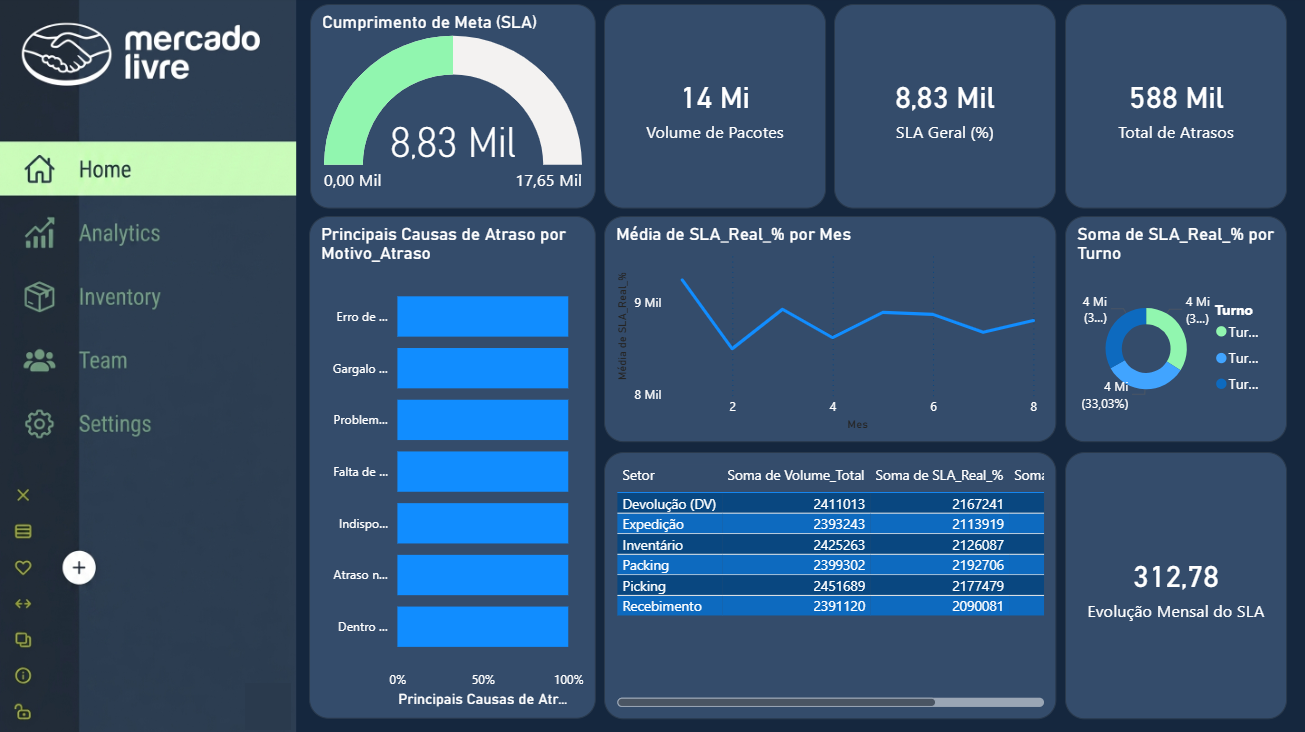

The page's visual inventory and layout, read from the dashboard file:
{"tool":"powerbi","page":{"name":"Página 1","canvas":[1280,720],"ordinal":0},"visuals":[{"type":"card","fields":{"Values":["Avg(Base_SLA_Logistica_Meli_Cajamar.Tempo_Medio_Seg)"]},"box":[1038.8,442.6,215.9,259.7],"z":0},{"type":"card","fields":{"Values":["Sum(Base_SLA_Logistica_Meli_Cajamar.Volume_Total)"]},"box":[590.4,6.8,215.9,199.4],"z":1},{"type":"card","fields":{"Values":["Avg(Base_SLA_Logistica_Meli_Cajamar.SLA_Real_%)"]},"box":[814.1,6.8,215.9,199.4],"z":2},{"type":"card","fields":{"Values":["Sum(Base_SLA_Logistica_Meli_Cajamar.Pacotes_Atrasados)"]},"box":[1038.8,6.8,215.9,199.4],"z":3},{"type":"gauge","fields":{"Y":["Avg(Base_SLA_Logistica_Meli_Cajamar.SLA_Real_%)"]},"box":[304.4,6.8,278.2,199.4],"z":4},{"type":"hundredPercentStackedBarChart","fields":{"Category":["Base_SLA_Logistica_Meli_Cajamar.Motivo_Atraso"],"Y":["Sum(Base_SLA_Logistica_Meli_Cajamar.Pacotes_Atrasados)"]},"box":[303.5,213,279.1,489.2],"z":5},{"type":"lineChart","fields":{"Category":["Base_SLA_Logistica_Meli_Cajamar.Mes"],"Y":["Avg(Base_SLA_Logistica_Meli_Cajamar.SLA_Real_%)"]},"box":[590.4,213,439.6,219.8],"z":6},{"type":"tableEx","fields":{"Values":["Base_SLA_Logistica_Meli_Cajamar.Setor","Sum(Base_SLA_Logistica_Meli_Cajamar.Volume_Total)","Sum(Base_SLA_Logistica_Meli_Cajamar.SLA_Real_%)","Sum(Base_SLA_Logistica_Meli_Cajamar.Pacotes_Atrasados)"]},"box":[590.4,442.6,439.6,259.7],"z":7},{"type":"donutChart","fields":{"Y":["Sum(Base_SLA_Logistica_Meli_Cajamar.SLA_Real_%)"],"Category":["Base_SLA_Logistica_Meli_Cajamar.Turno"]},"box":[1038.8,213,215.9,219.8],"z":8},{"type":"image","box":[0,0,292.8,719.8],"z":9},{"type":"shape","box":[241.2,667.2,44.7,45.7],"z":10}]}

Visuals, with their boxes on the page's 1280x720 design canvas (x1, y1, x2, y2). These are canvas units, not pixel positions in the 1305x732 screenshot, which may show the page scaled, cropped or inside an application window:
card - Avg(Base_SLA_Logistica_Meli_Cajamar.Tempo_Medio_Seg): <bbox>1039, 443, 1255, 702</bbox>
card - Sum(Base_SLA_Logistica_Meli_Cajamar.Volume_Total): <bbox>590, 7, 806, 206</bbox>
card - Avg(Base_SLA_Logistica_Meli_Cajamar.SLA_Real_%): <bbox>814, 7, 1030, 206</bbox>
card - Sum(Base_SLA_Logistica_Meli_Cajamar.Pacotes_Atrasados): <bbox>1039, 7, 1255, 206</bbox>
gauge - Avg(Base_SLA_Logistica_Meli_Cajamar.SLA_Real_%): <bbox>304, 7, 583, 206</bbox>
hundredPercentStackedBarChart - Base_SLA_Logistica_Meli_Cajamar.Motivo_Atraso x Sum(Base_SLA_Logistica_Meli_Cajamar.Pacotes_Atrasados): <bbox>304, 213, 583, 702</bbox>
lineChart - Base_SLA_Logistica_Meli_Cajamar.Mes x Avg(Base_SLA_Logistica_Meli_Cajamar.SLA_Real_%): <bbox>590, 213, 1030, 433</bbox>
tableEx - Base_SLA_Logistica_Meli_Cajamar.Setor x Sum(Base_SLA_Logistica_Meli_Cajamar.Volume_Total): <bbox>590, 443, 1030, 702</bbox>
donutChart - Sum(Base_SLA_Logistica_Meli_Cajamar.SLA_Real_%) x Base_SLA_Logistica_Meli_Cajamar.Turno: <bbox>1039, 213, 1255, 433</bbox>
image: <bbox>0, 0, 293, 720</bbox>
shape: <bbox>241, 667, 286, 713</bbox>
